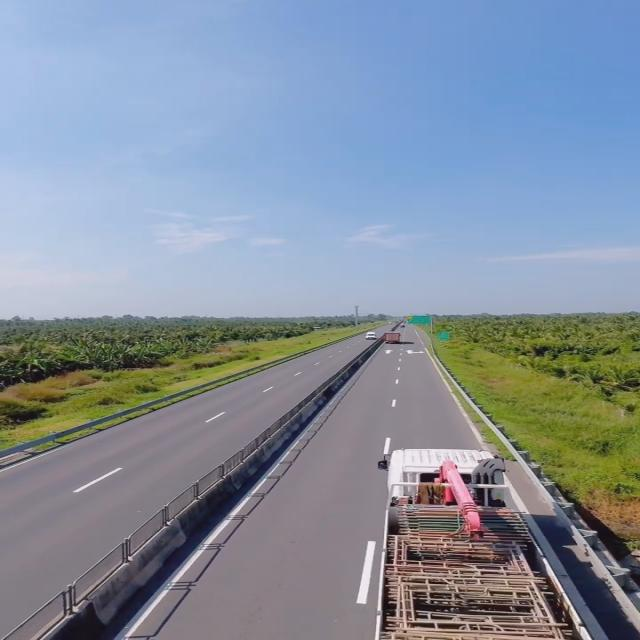truck: (366, 442, 583, 640)
